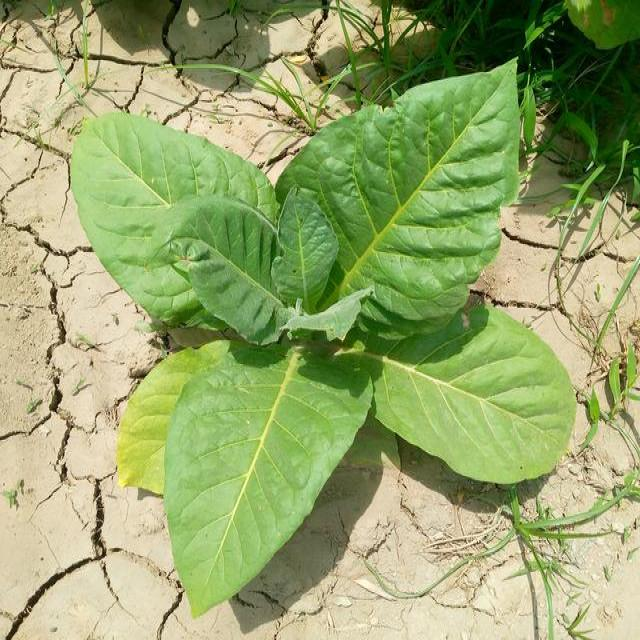crop: (70, 78, 579, 582)
